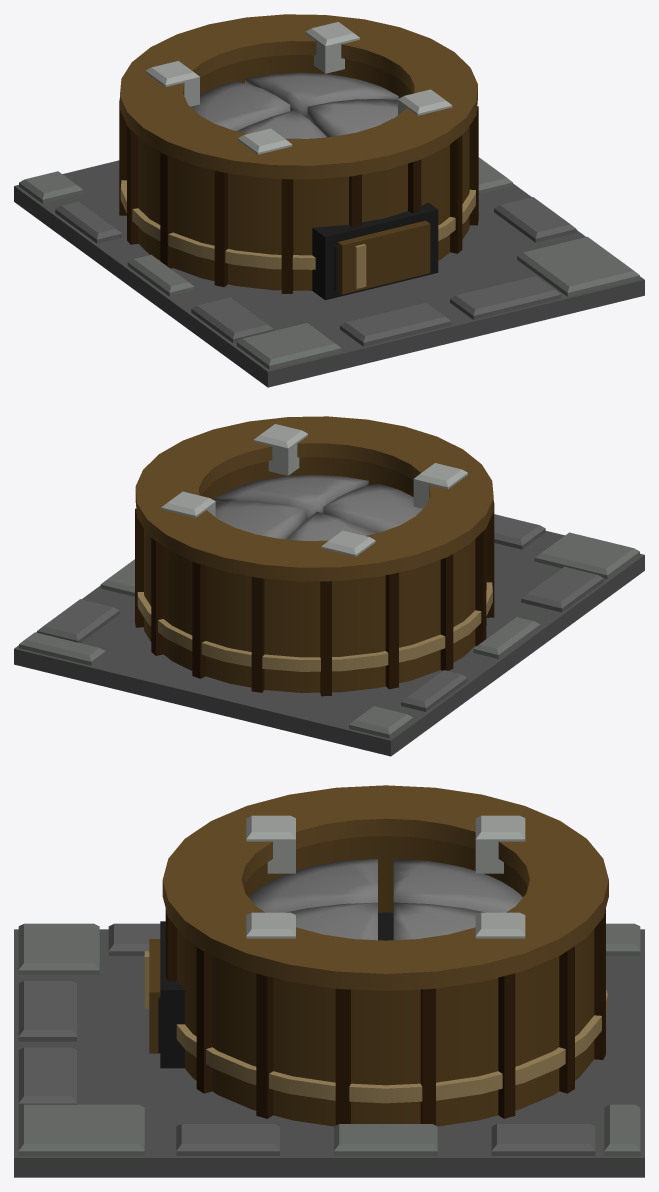
Rendered from newshd-169-f2.glb.
The picture shows the model from 3 angles, top to bottom: view 1: azimuth 30°, elevation 25°; view 2: azimuth 150°, elevation 25°; view 3: azimuth 270°, elevation 25°; orthographic projection. The views are drawn at different scales.
Visible parts, largest first — view 1: newshd-169-f2; view 2: newshd-169-f2; view 3: newshd-169-f2.
Part boxes in pixels (<box>): newshd-169-f2: <box>14,14,644,387</box>; newshd-169-f2: <box>14,416,644,756</box>; newshd-169-f2: <box>14,785,644,1177</box>.
Size of the model in its own units: 2 by 0.76 by 2.33.
